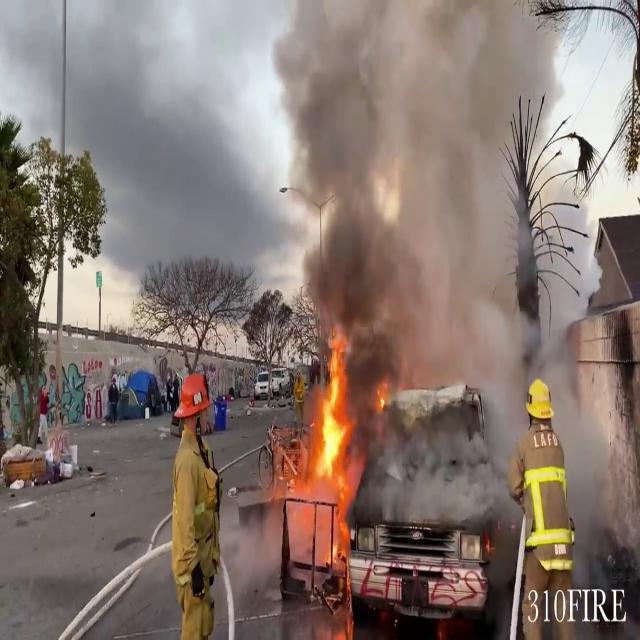Fire: (276, 331, 366, 571)
Smoke: (265, 0, 599, 353), (368, 370, 614, 542)
